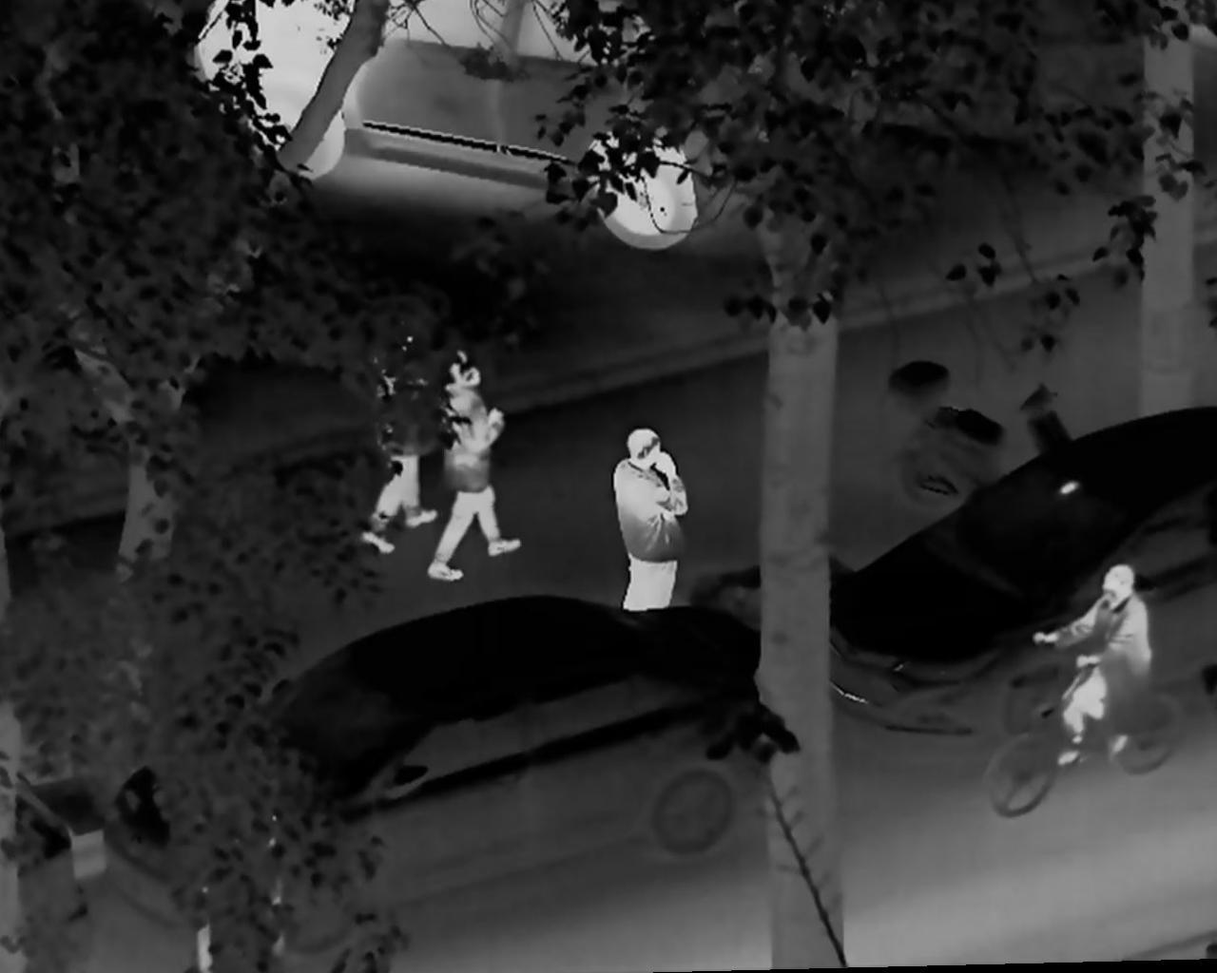person: (1024, 553, 1153, 773), (425, 345, 531, 583), (353, 319, 444, 555), (608, 429, 692, 615)
